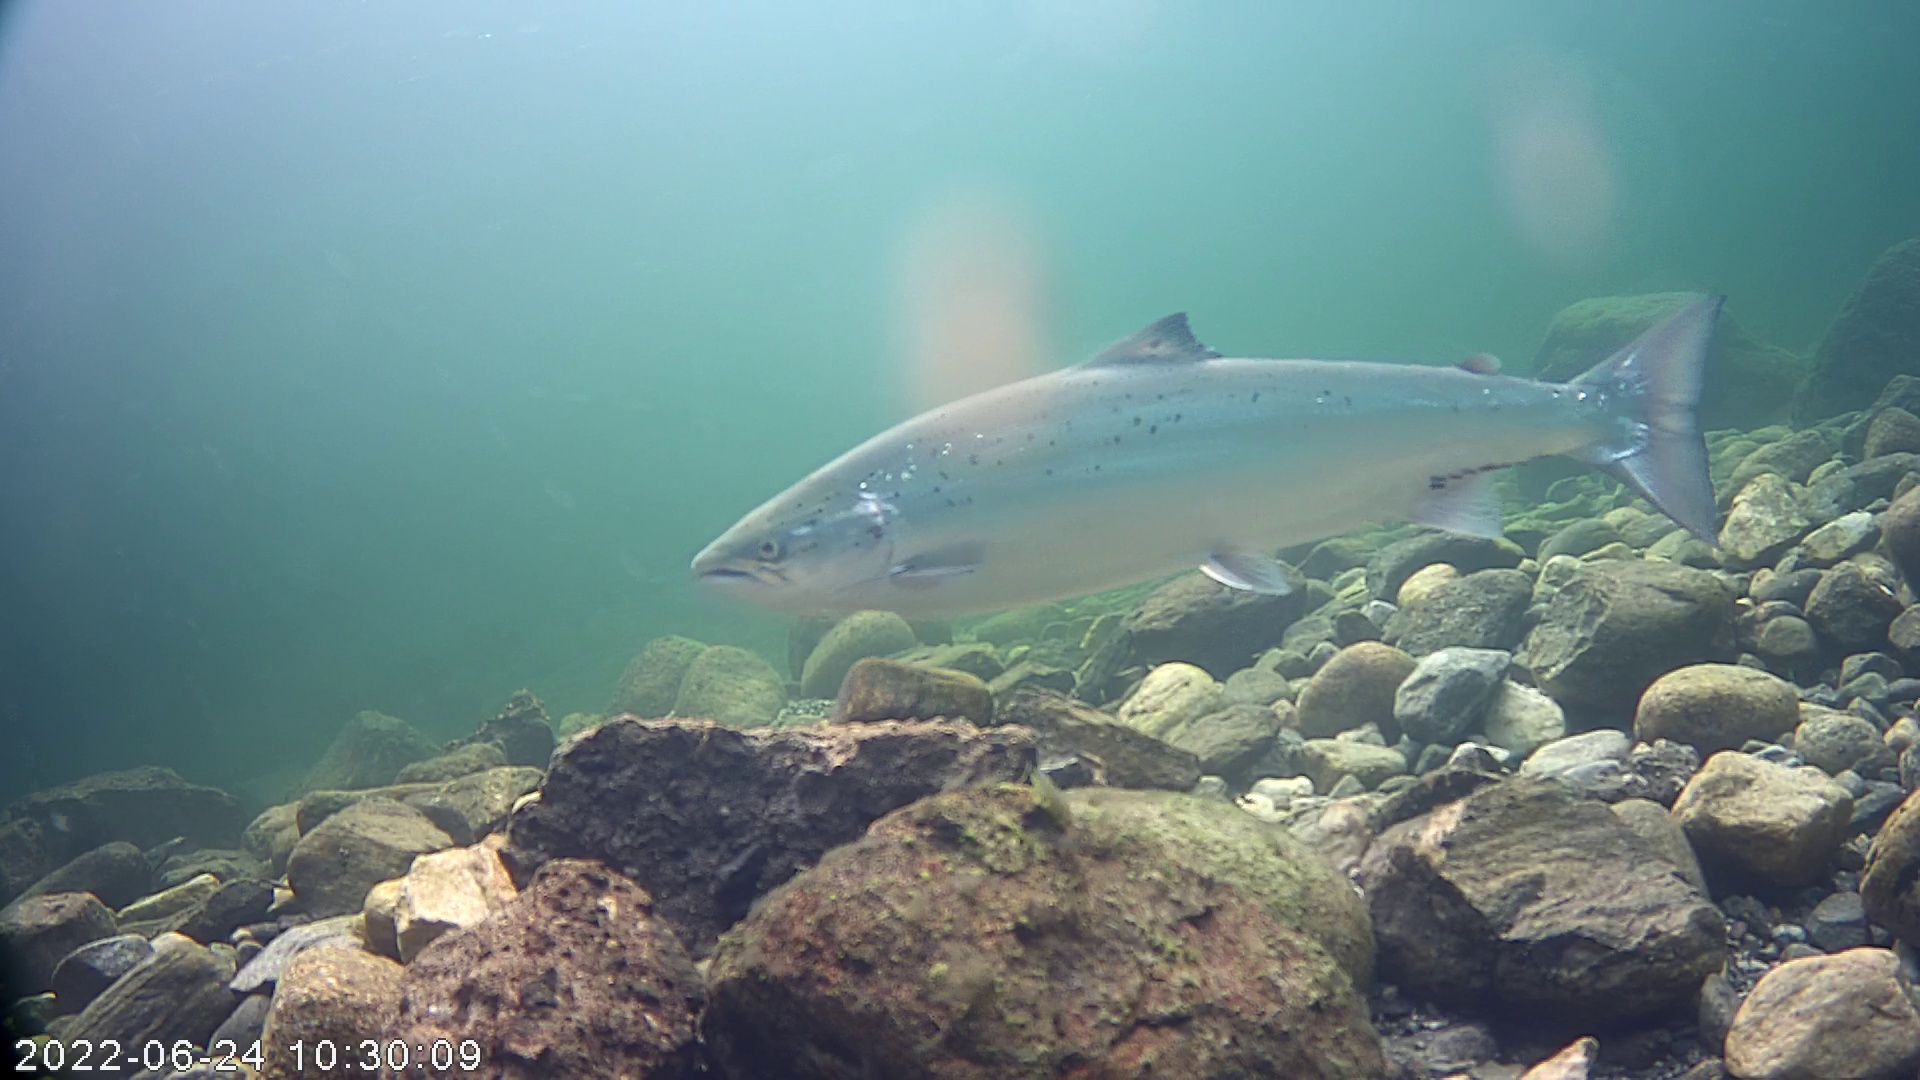salmon: (688, 284, 1726, 632)
